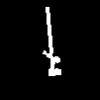double_crochet: (43, 7, 60, 75)
